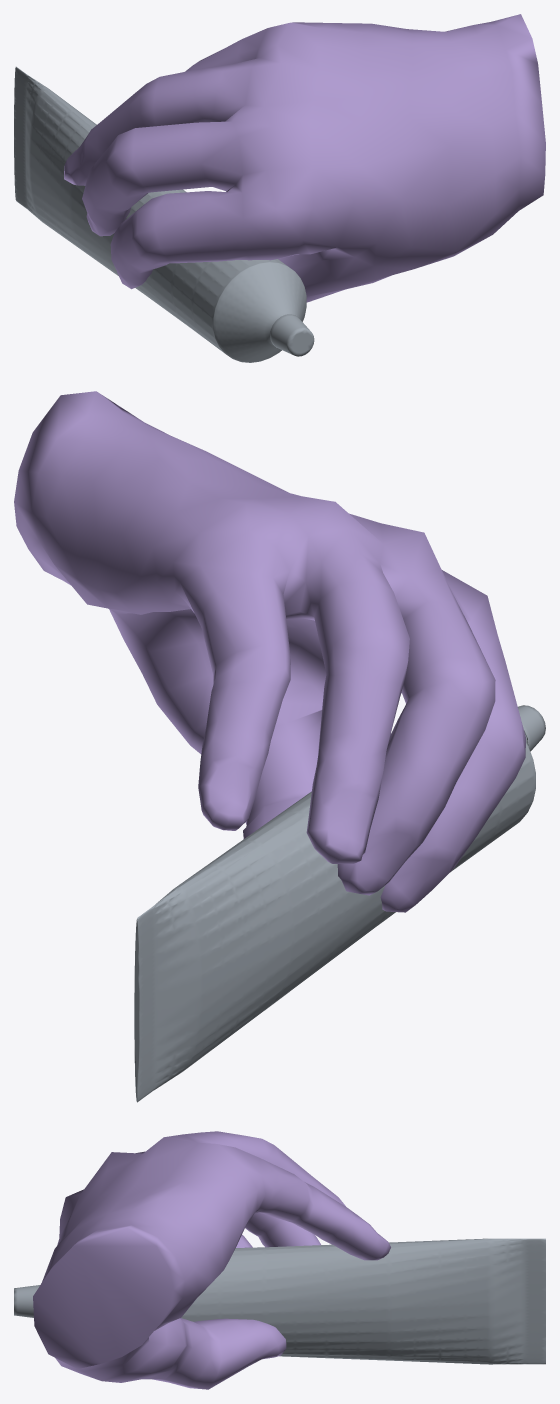
Rendered from grasp_1.glb.
3 renders of one model, top to bottom at view 1: azimuth 30°, elevation 25°; view 2: azimuth 150°, elevation 25°; view 3: azimuth 270°, elevation 25°, orthographic. The views are drawn at different scales.
Size of the model in its own units: 0.151 by 0.1109 by 0.202.
